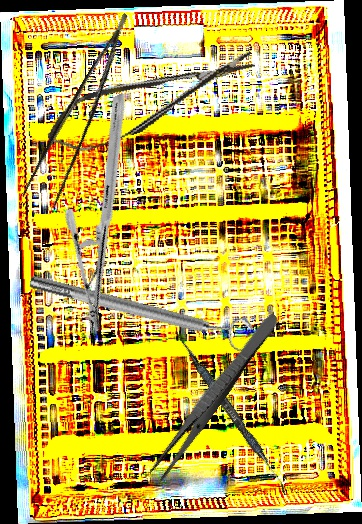Dressing Forceps: (145, 308, 282, 485)
Fixation Ring: (26, 262, 255, 356)
Micro Scissor: (39, 39, 264, 162)
Needle Holder: (7, 92, 206, 335)
Spatula Surgical: (169, 329, 294, 496)
Tissue Forceps: (13, 12, 159, 218)
